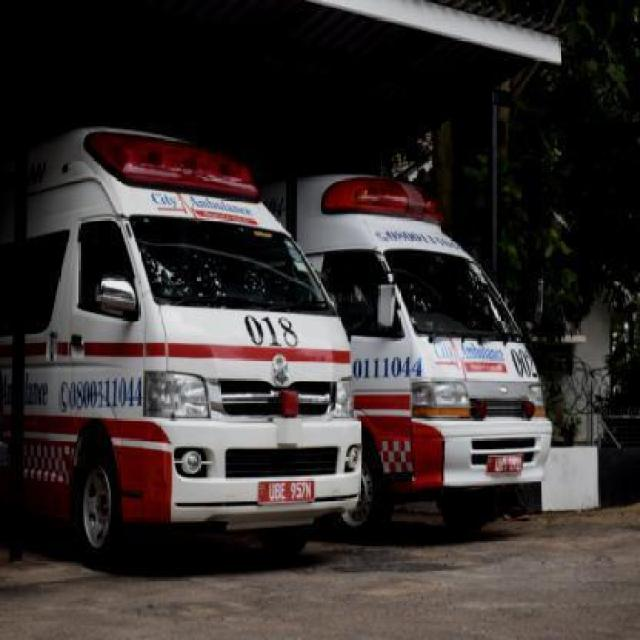Ambulance: (14, 126, 368, 591), (278, 130, 570, 538)
